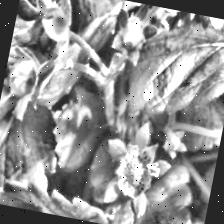Blossom Blight: (112, 146, 163, 202)
